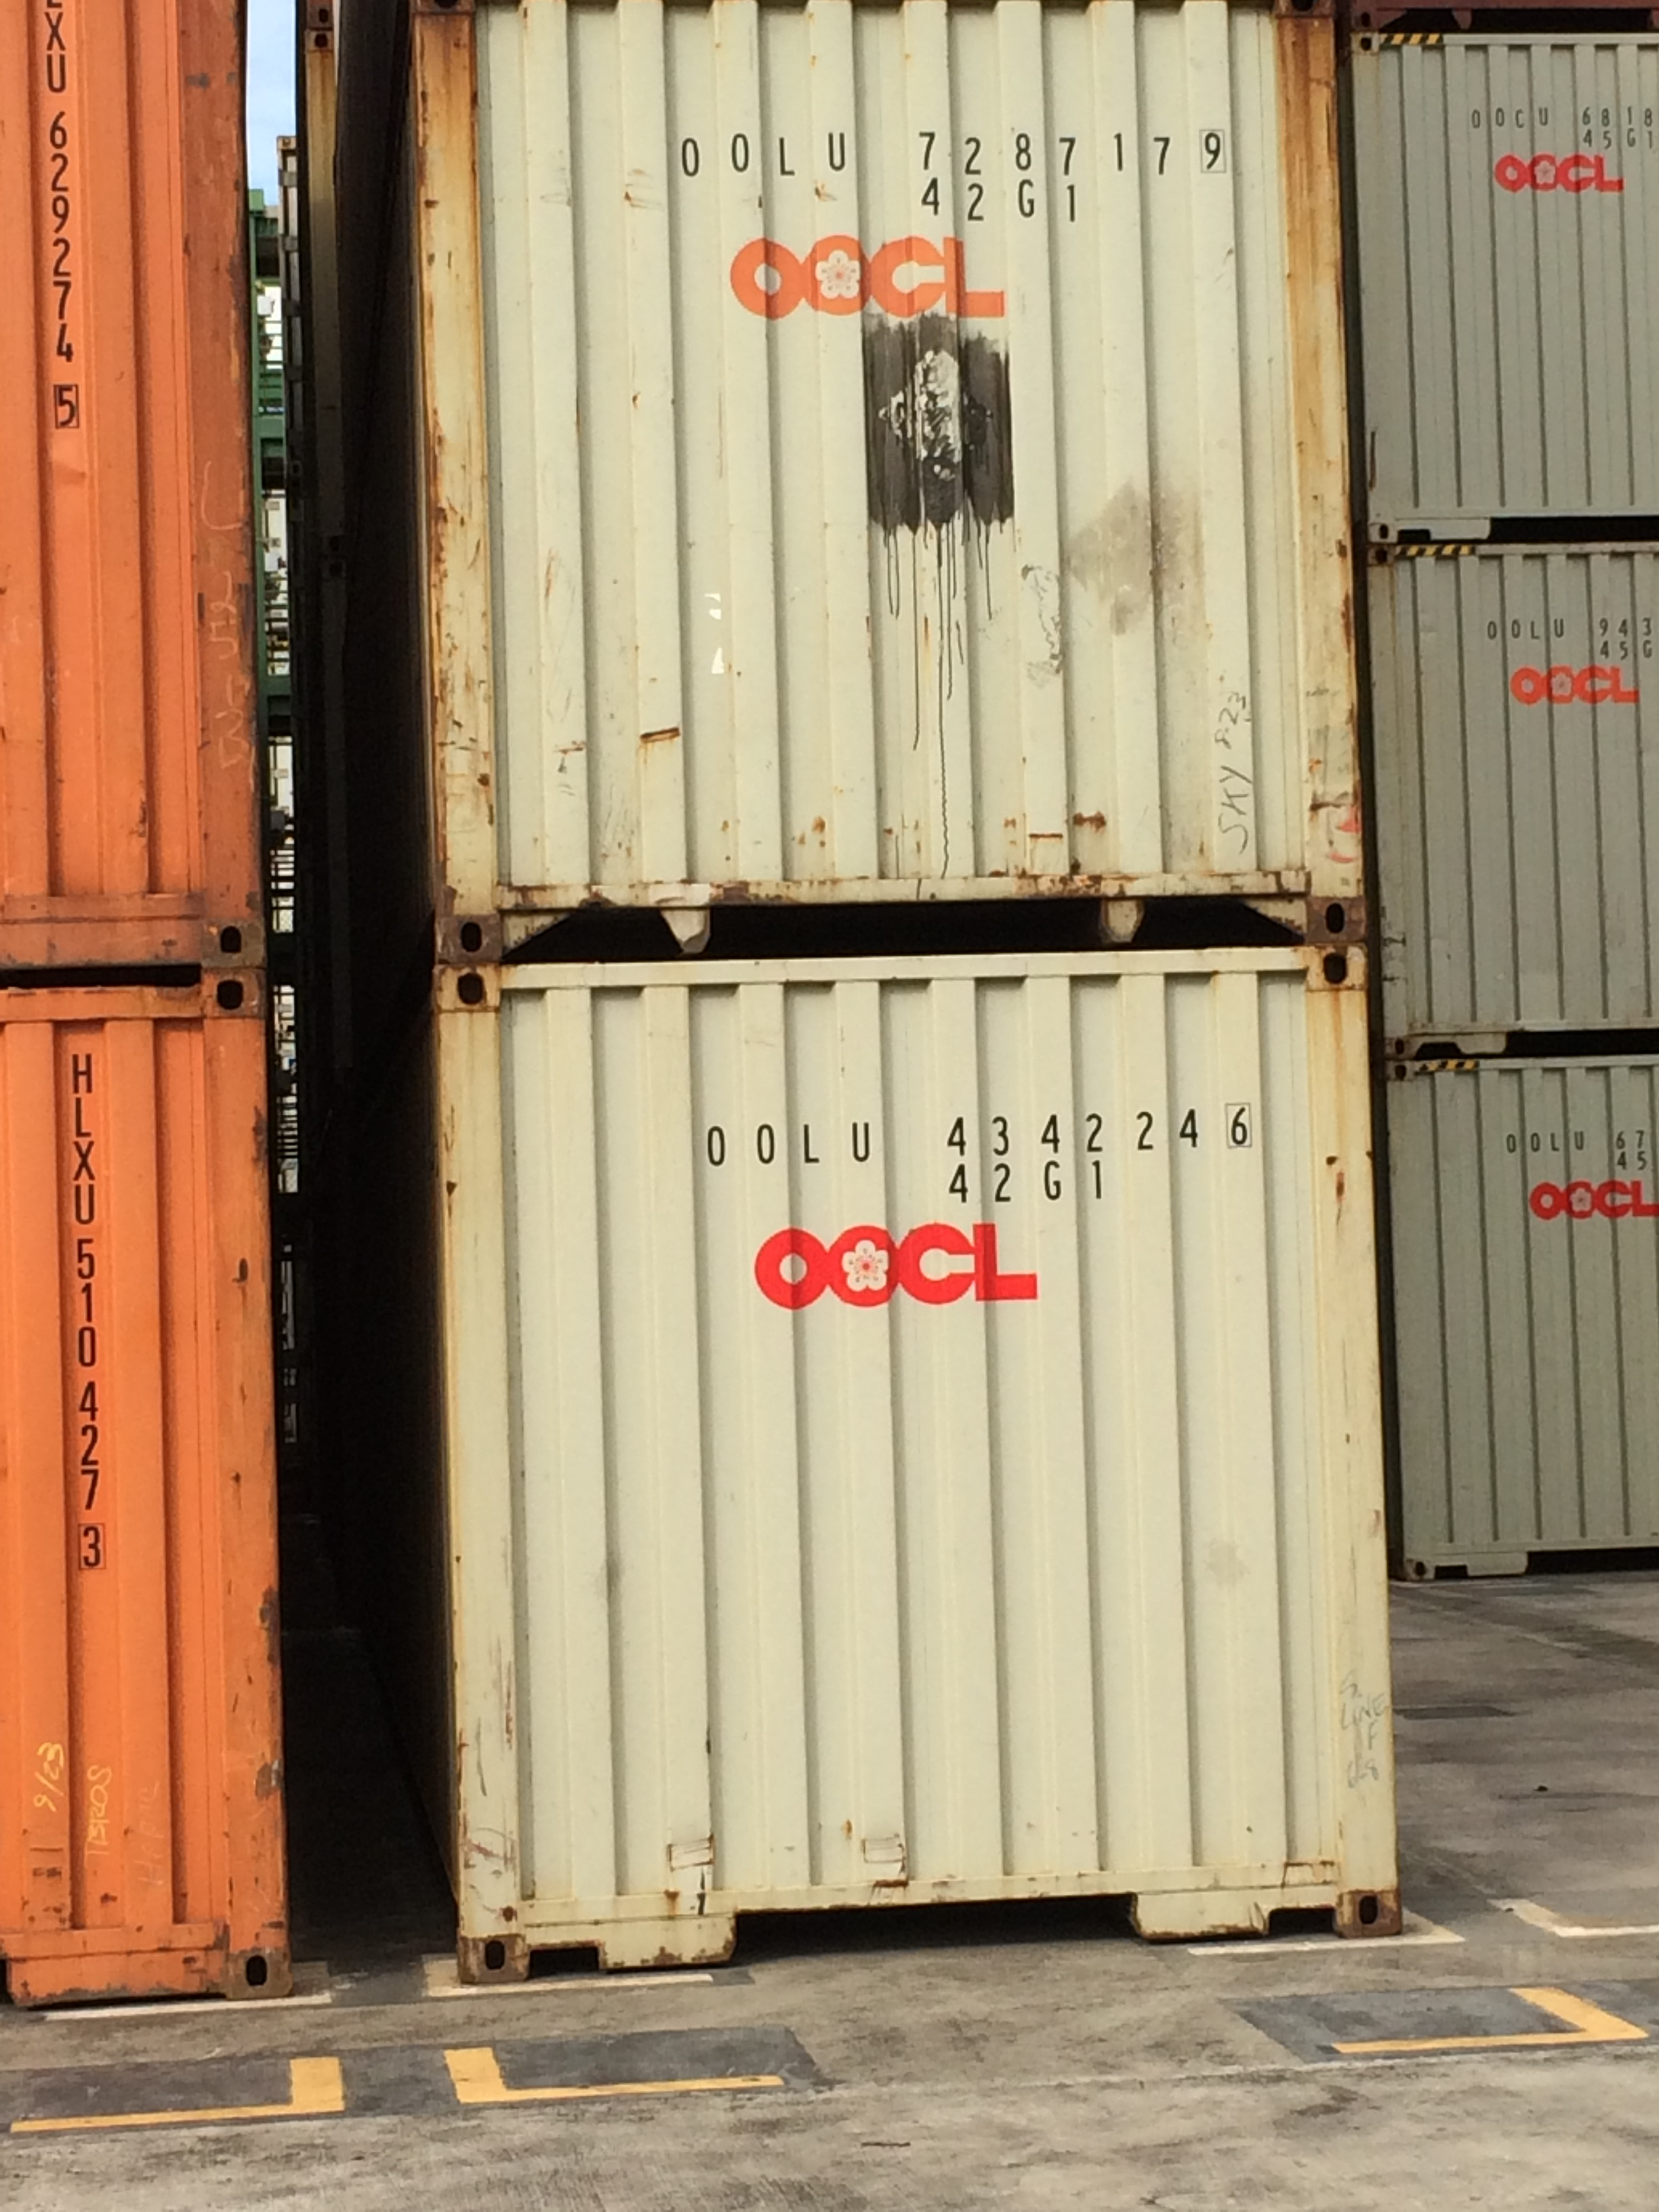container_no_door: (446, 946, 1406, 1996), (434, 0, 1358, 972), (1366, 28, 1659, 550), (1366, 540, 1659, 1062), (1366, 1064, 1659, 1587)
